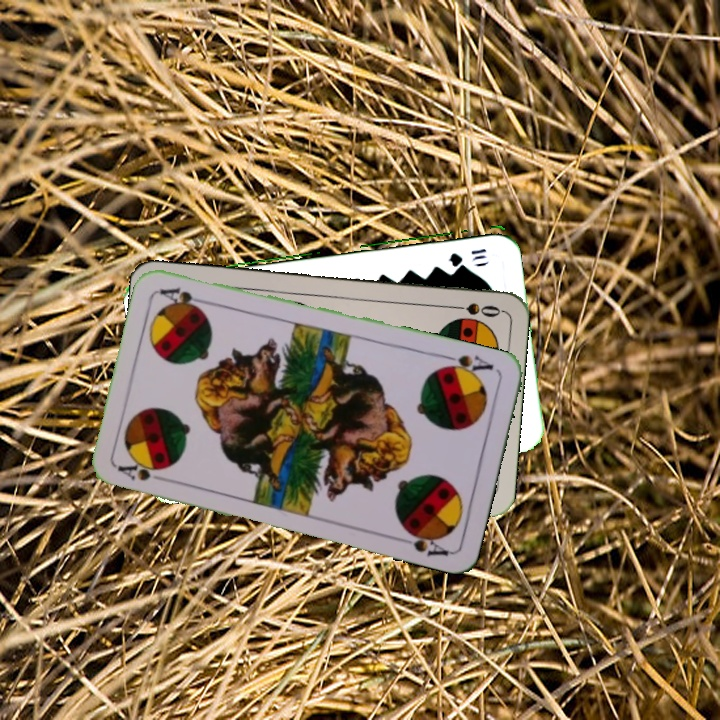G10: (444, 244, 489, 266)
SA: (113, 456, 172, 485), (438, 351, 496, 380)
SO: (444, 299, 503, 320)
